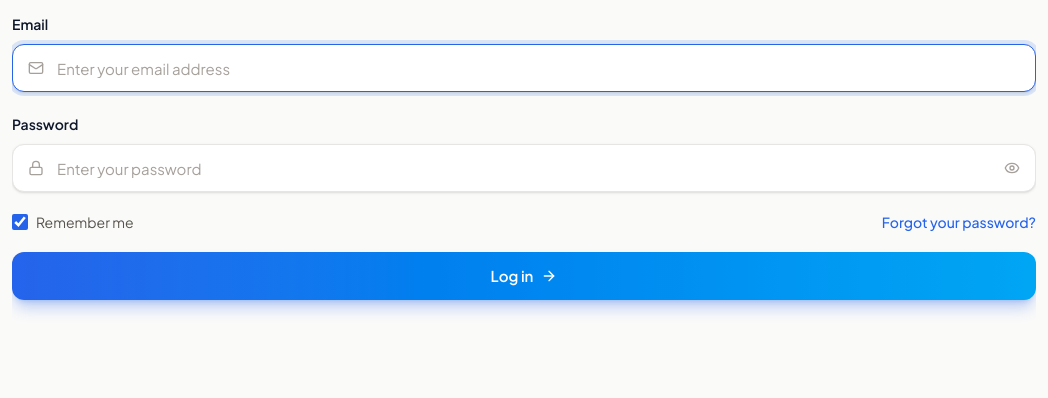
Test: LoginForm › falls back to a generic error when the body has none
The width and height of the screenshot is (1048, 398).
Type "a@b.com" into the field labelled "Email" at {"x": 524, "y": 68}, box [12,44,1036,92]
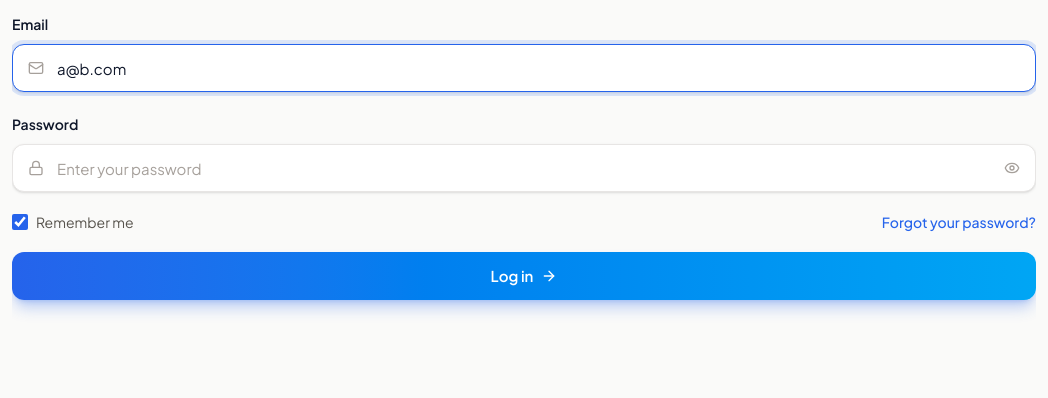
Type "x" into the password field labelled "Password" at {"x": 524, "y": 168}, box [12,144,1036,192]
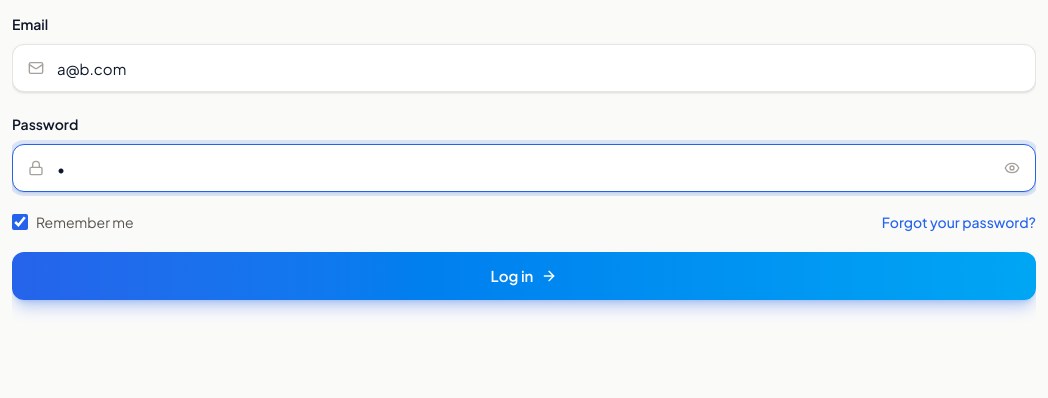
Click the button "Log in" at {"x": 524, "y": 276}, box [12,252,1036,300]
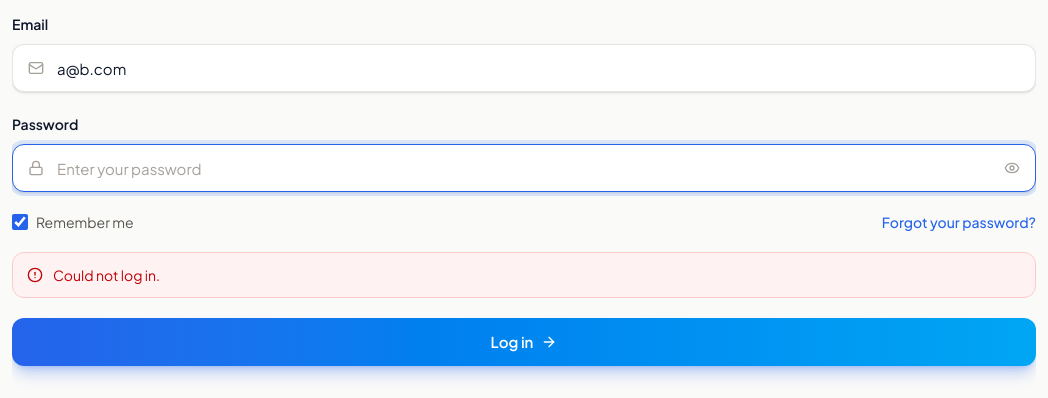
Result: the text "Could not log in." is shown at [53,265,160,285]
